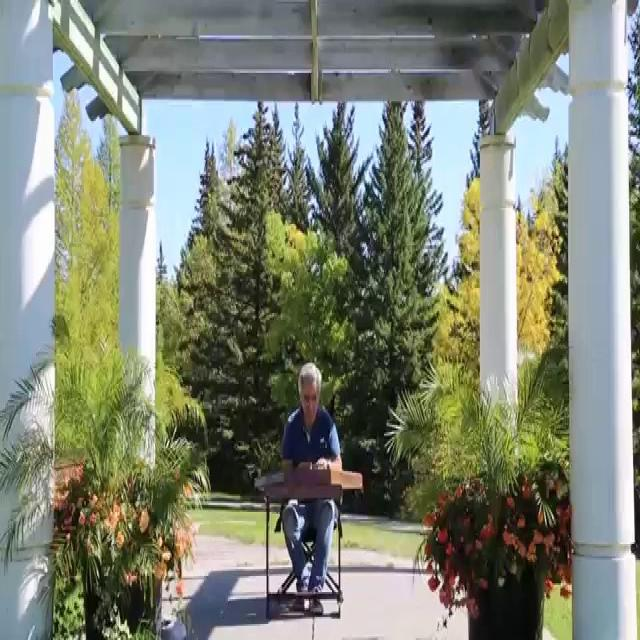Santur: (253, 458, 364, 504)
